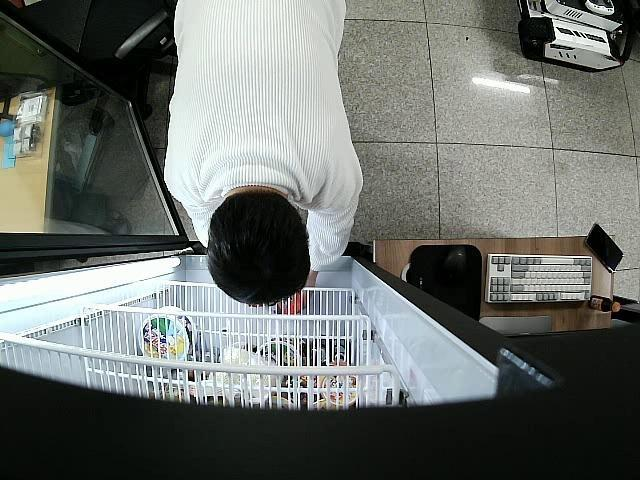02_shinRamen_S: (276, 289, 304, 312)
